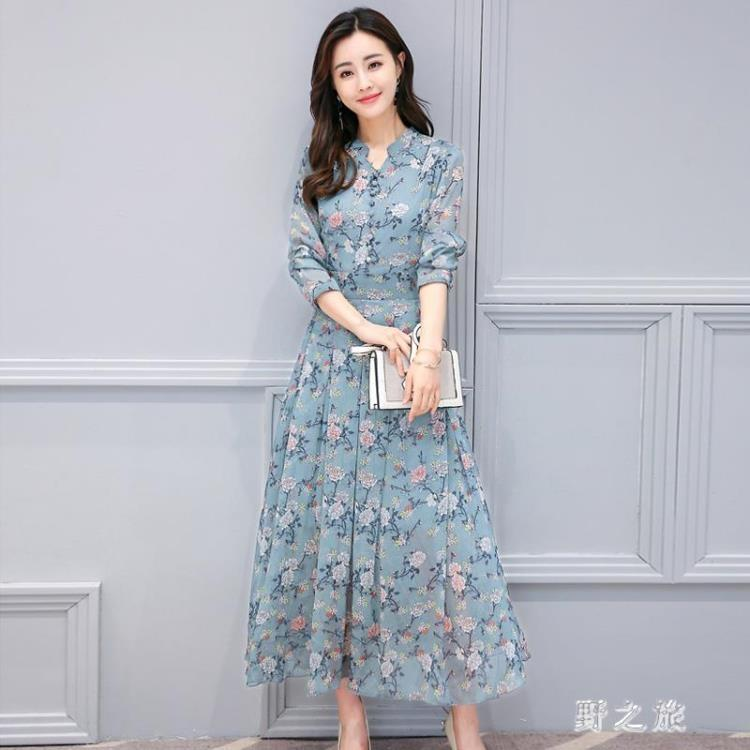C_dress: (245, 127, 527, 679)
